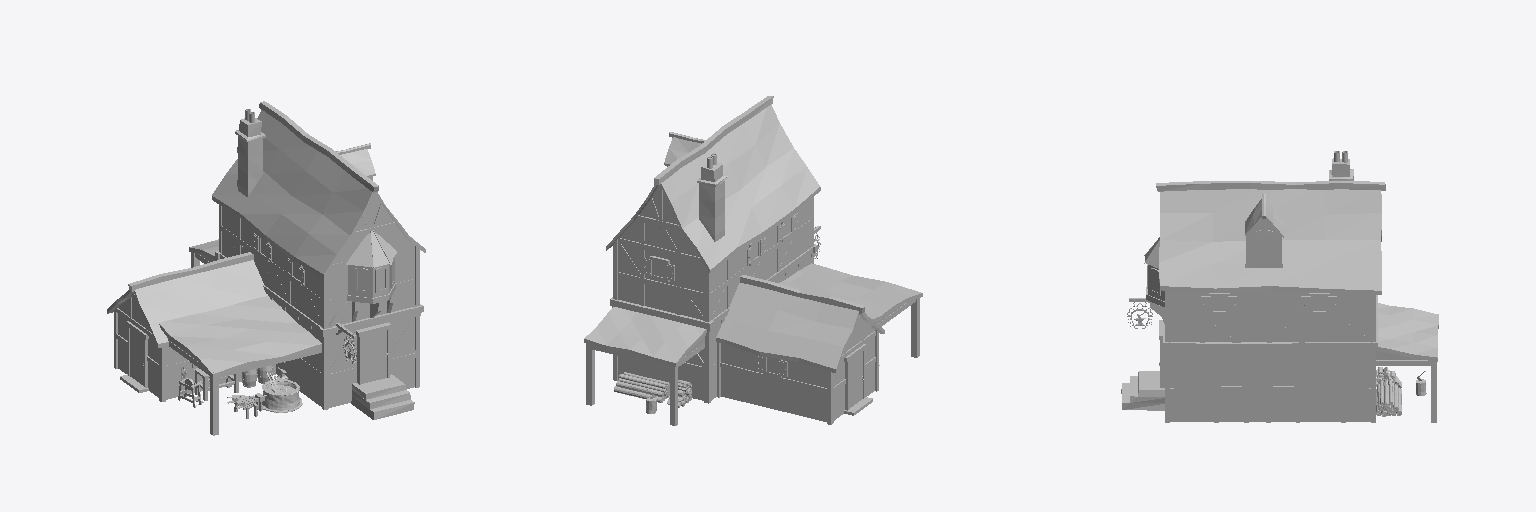
Rendered from blacksmith.obj.
3 views of the same model, side by side, from view 1: azimuth 30°, elevation 25°; view 2: azimuth 150°, elevation 25°; view 3: azimuth 270°, elevation 25° (orthographic).
Parts seen in each view (by area): view 1: Roof_Cube.006, WoodenBeams_Cube.408, Level1_Cube.004, Level2_Cube.005, RoofFrame_Cube.441, Steps_Cube.014, Chimney_Cube.418, DoorFront_Cube.012, Forge_Cylinder.022, WoodenBeamsExtraFront_Cube.026, WindowFrames_Cube.434, DoorSide_Cube.020 (+2 smaller); view 2: Roof_Cube.006, WoodenBeams_Cube.408, Level1_Cube.004, Level2_Cube.005, RoofFrame_Cube.441, Chimney_Cube.418, WoodenBeamsExtraBack_Cube.039, WindowFrames_Cube.434, PileOfLogs_Cylinder.002, WoodenBeamsExtraFront_Cube.026, DoorSide_Cube.020; view 3: Roof_Cube.006, Level1_Cube.004, WoodenBeams_Cube.408, Level2_Cube.005, RoofFrame_Cube.441, WindowFrames_Cube.434, Steps_Cube.014, WoodenBeamsExtraBack_Cube.039, PileOfLogs_Cylinder.002, Level3_Cube.440, Window2Level1_Cube.043, Window1Level1_Cube.035.
Part boxes in pixels (x1,y1,x2,y2): Roof_Cube.006: (135, 110, 422, 373); WoodenBeams_Cube.408: (114, 177, 423, 409); Level1_Cube.004: (118, 298, 414, 407); Level2_Cube.005: (222, 193, 414, 326); RoofFrame_Cube.441: (107, 101, 425, 377); Steps_Cube.014: (351, 374, 414, 419); Chimney_Cube.418: (235, 118, 265, 196); DoorFront_Cube.012: (362, 330, 386, 383); Forge_Cylinder.022: (262, 379, 302, 412); WoodenBeamsExtraFront_Cube.026: (167, 337, 321, 435); WindowFrames_Cube.434: (253, 233, 394, 292); DoorSide_Cube.020: (130, 329, 143, 385); Roof_Cube.006: (584, 104, 920, 368); WoodenBeams_Cube.408: (610, 166, 878, 424); Level1_Cube.004: (618, 257, 874, 421); Level2_Cube.005: (618, 186, 811, 319); RoofFrame_Cube.441: (584, 96, 922, 372); Chimney_Cube.418: (697, 162, 727, 241); WoodenBeamsExtraBack_Cube.039: (586, 334, 705, 425); WindowFrames_Cube.434: (643, 213, 797, 378); PileOfLogs_Cylinder.002: (614, 372, 669, 402); WoodenBeamsExtraFront_Cube.026: (876, 298, 919, 357); DoorSide_Cube.020: (849, 351, 862, 408); Roof_Cube.006: (1145, 189, 1438, 357); Level1_Cube.004: (1170, 352, 1370, 421); WoodenBeams_Cube.408: (1144, 219, 1377, 422); Level2_Cube.005: (1170, 291, 1370, 341); RoofFrame_Cube.441: (1156, 181, 1438, 361); WindowFrames_Cube.434: (1147, 230, 1336, 387); Steps_Cube.014: (1121, 371, 1164, 410); WoodenBeamsExtraBack_Cube.039: (1376, 351, 1436, 422); PileOfLogs_Cylinder.002: (1376, 380, 1401, 416); Level3_Cube.440: (1249, 219, 1279, 263); Window2Level1_Cube.043: (1273, 353, 1293, 385); Window1Level1_Cube.035: (1221, 353, 1241, 385).
Size of the model in its own units: 0.8098 by 0.8084 by 1.